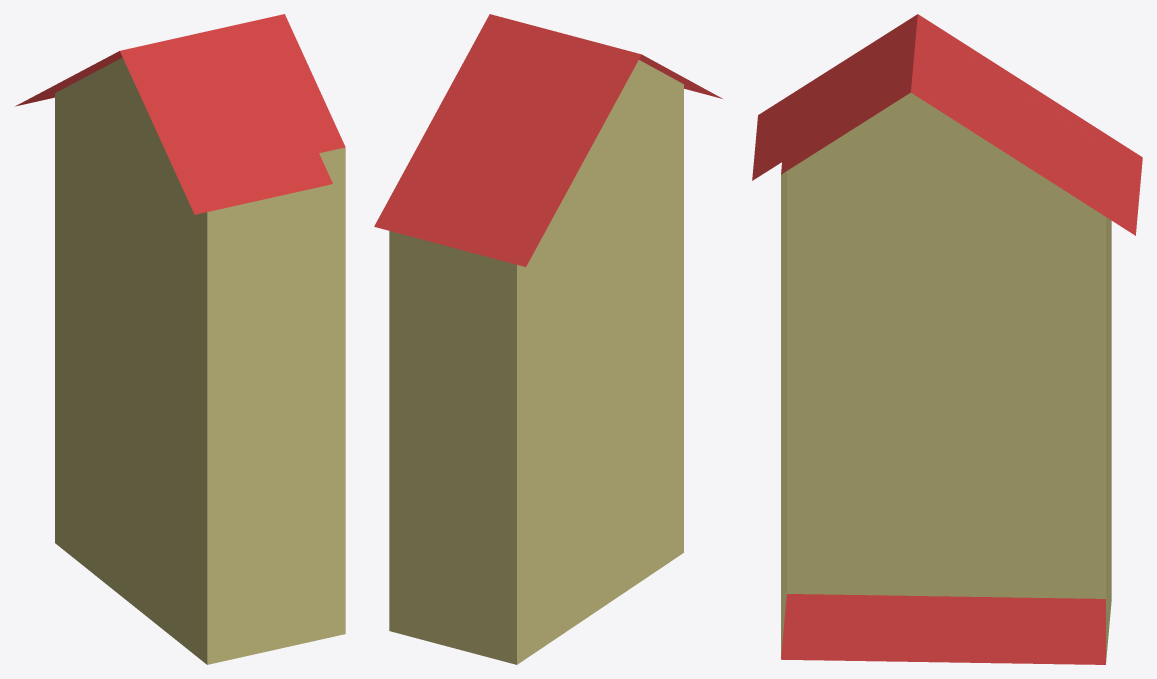
The picture shows the model from 3 angles, left to right: view 1: azimuth 30°, elevation 25°; view 2: azimuth 150°, elevation 25°; view 3: azimuth 270°, elevation 25°; orthographic projection. The views are drawn at different scales.
Size of the model in its own units: 5.01 by 9.77 by 15.72.
